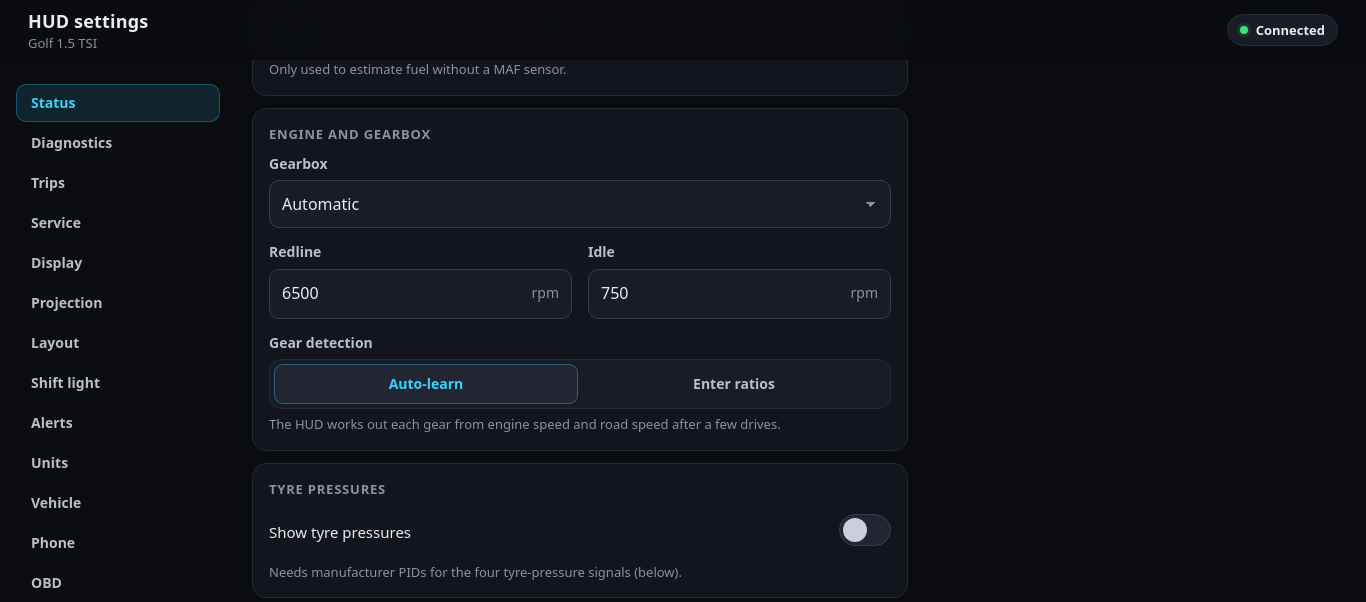
settings app › converts entered gear ratios when the unit system changes
The width and height of the screenshot is (1366, 602).
Click the radio button labelled "Enter ratios".
click(734, 383)  # box [693, 374, 775, 393]
(page scrolled)
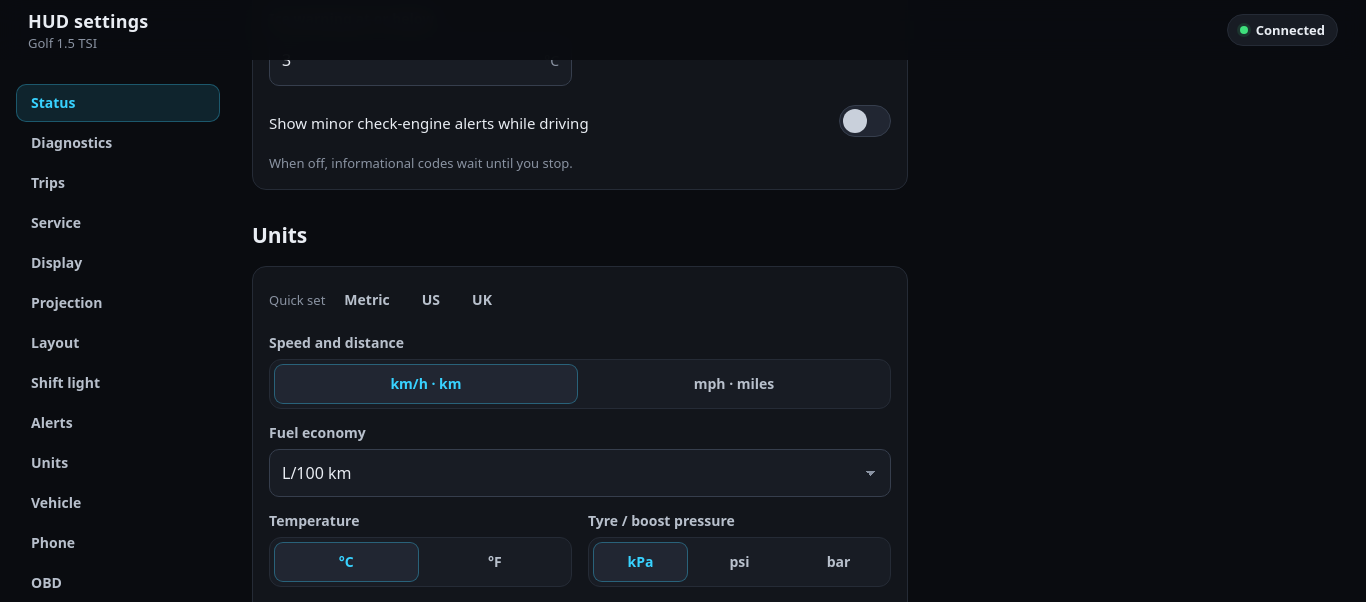
Click the radio button labelled "mph · miles".
click(734, 383)  # box [694, 374, 774, 393]
(page scrolled)
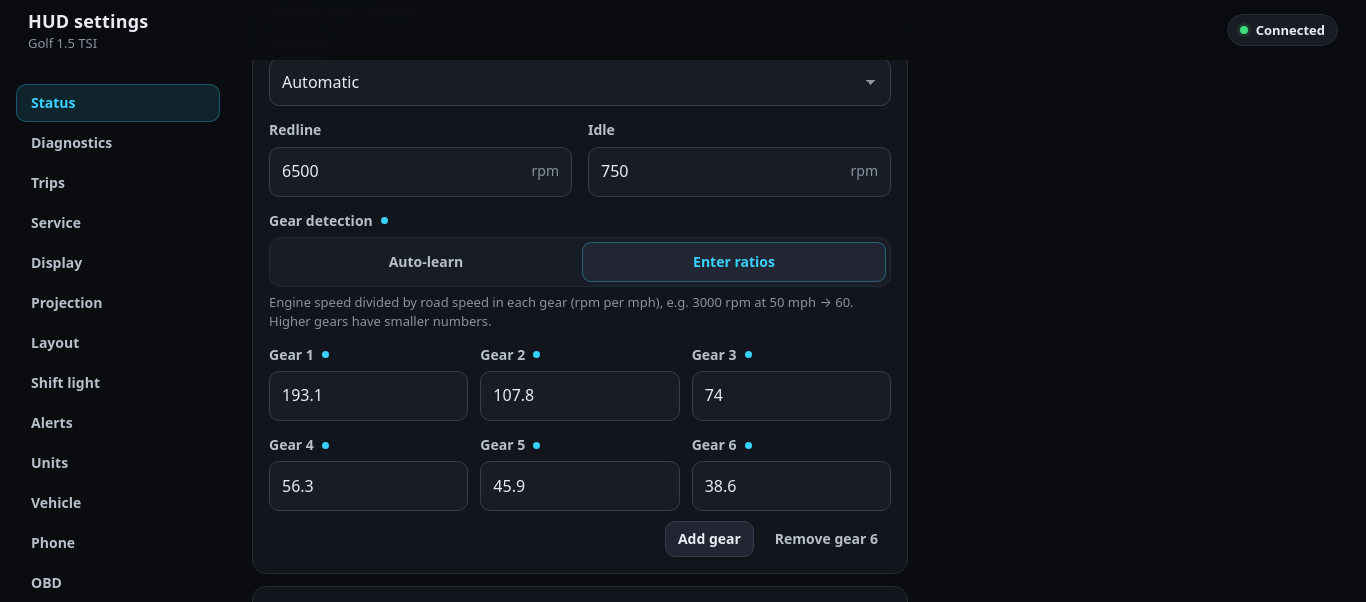
expect the element with class "gear-ratios" shows "rpm per mph": met, box [575, 293, 656, 311]
